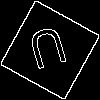U: (25, 25, 73, 79)
